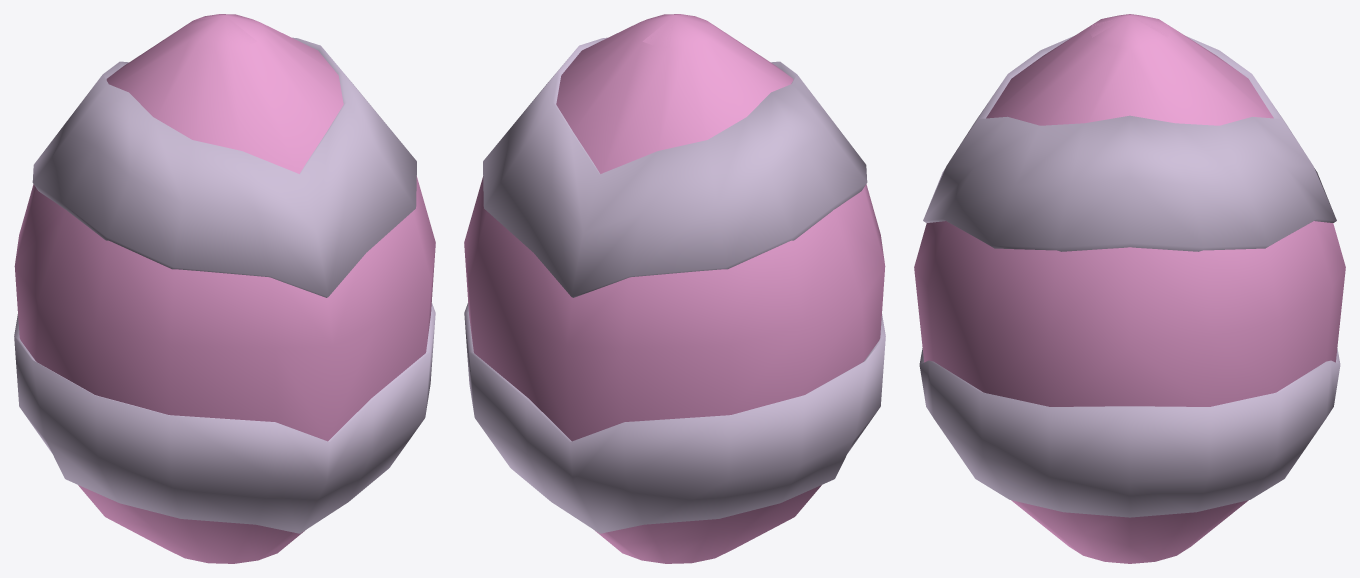
File: huevo.fbx
3 renders of one model, left to right at view 1: azimuth 30°, elevation 25°; view 2: azimuth 150°, elevation 25°; view 3: azimuth 270°, elevation 25°, orthographic.
Visible parts, largest first — view 1: Sphere.022, Sphere.023; view 2: Sphere.022, Sphere.023; view 3: Sphere.022, Sphere.023.
Part boxes in pixels (x1,y1,x2,y2): Sphere.022: (14, 14, 435, 563); Sphere.023: (14, 37, 435, 533); Sphere.022: (464, 14, 885, 563); Sphere.023: (464, 37, 885, 533); Sphere.022: (914, 14, 1345, 563); Sphere.023: (919, 36, 1340, 517).
Size of the model in its own units: 27.44 by 36.91 by 26.55.
